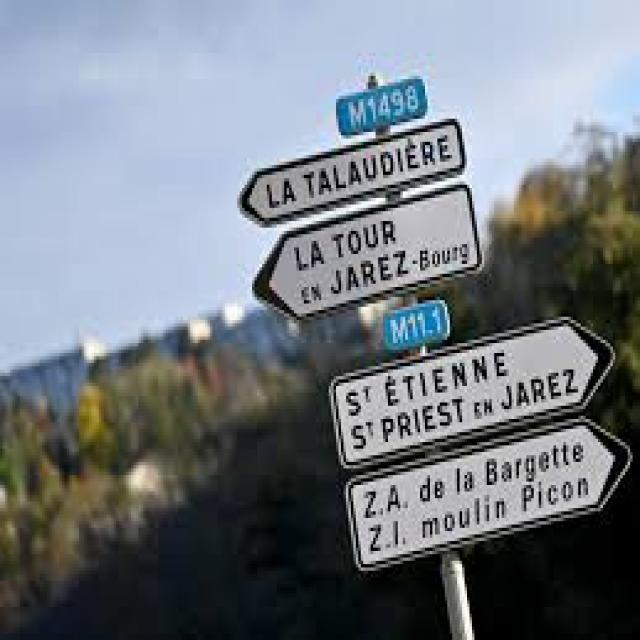direction: (317, 316, 627, 463), (330, 418, 636, 554), (248, 183, 492, 319), (234, 121, 471, 231)
